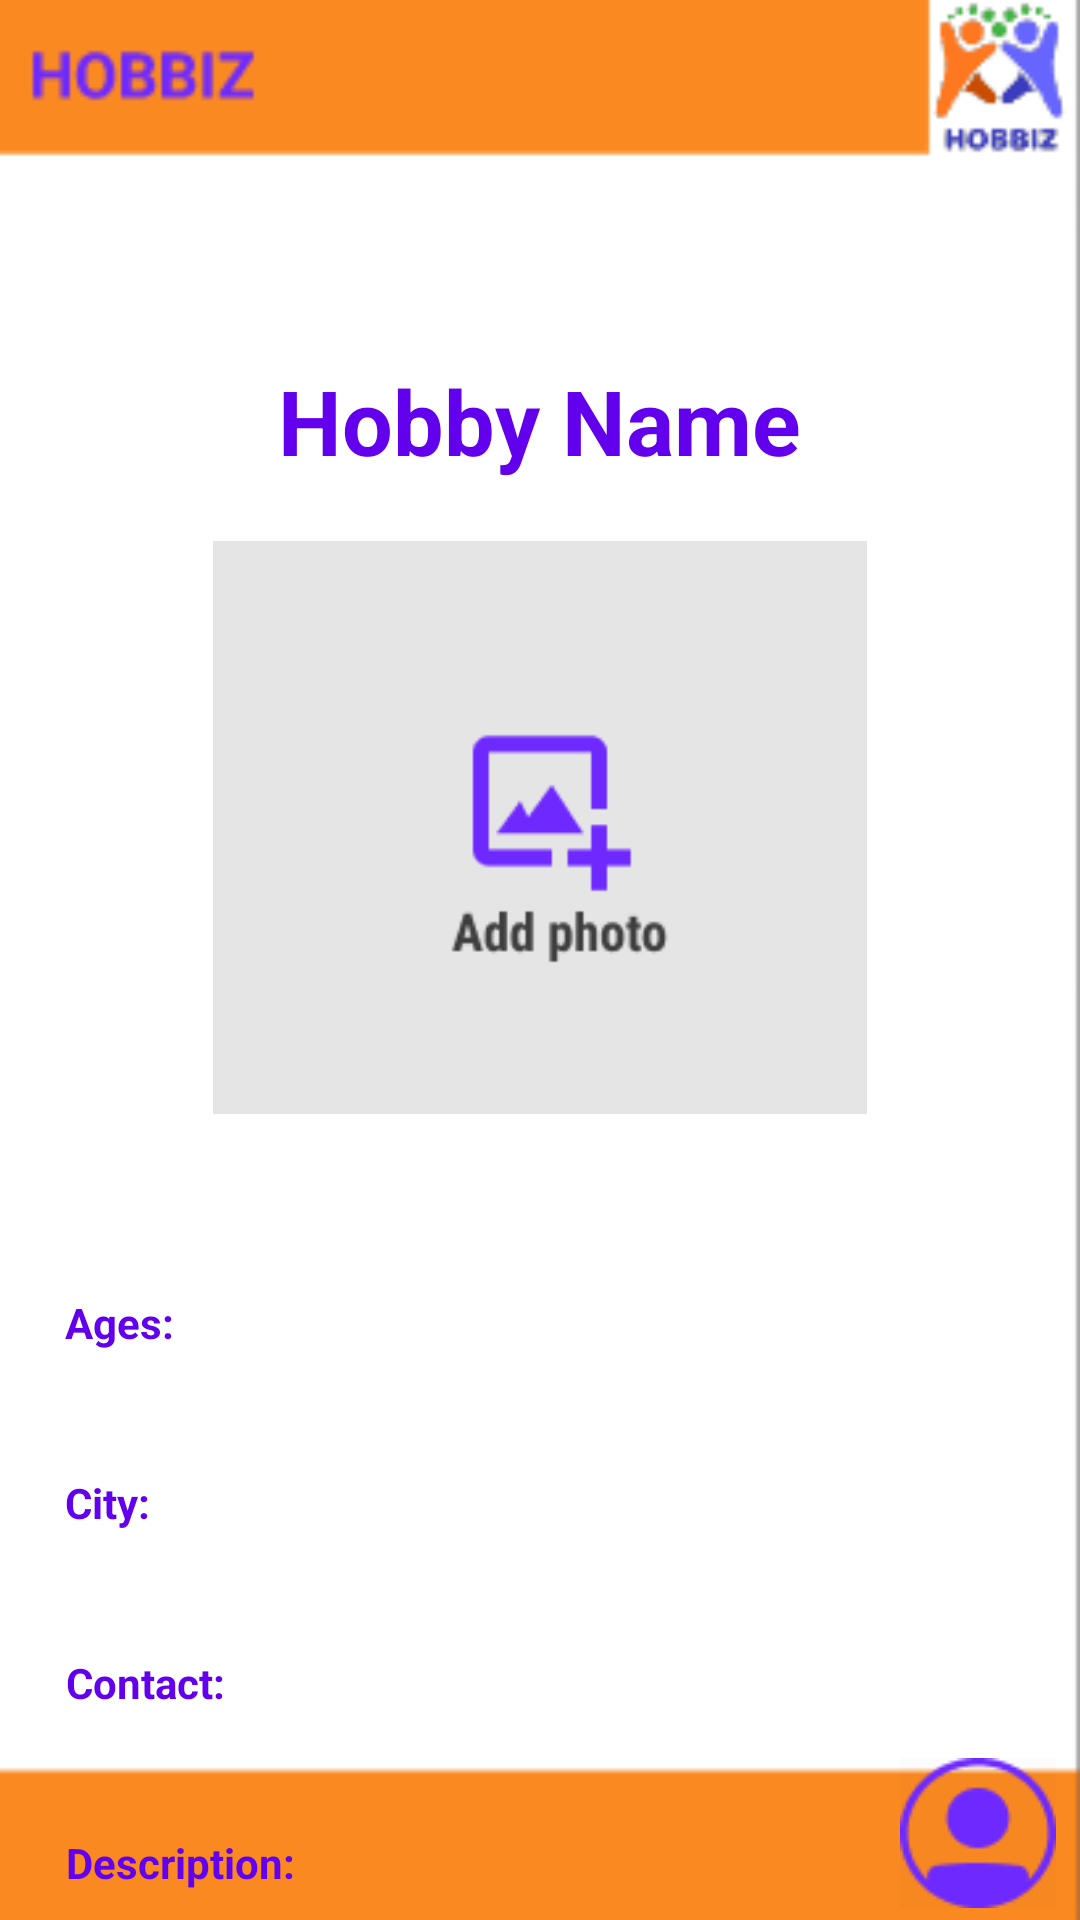

Screen size 1080*1920. Icon name, then its box in pixels as (left=x1, top=y1, right=x2, bottom=y2):
personalarea: (left=900, top=1758, right=1056, bottom=1908)
